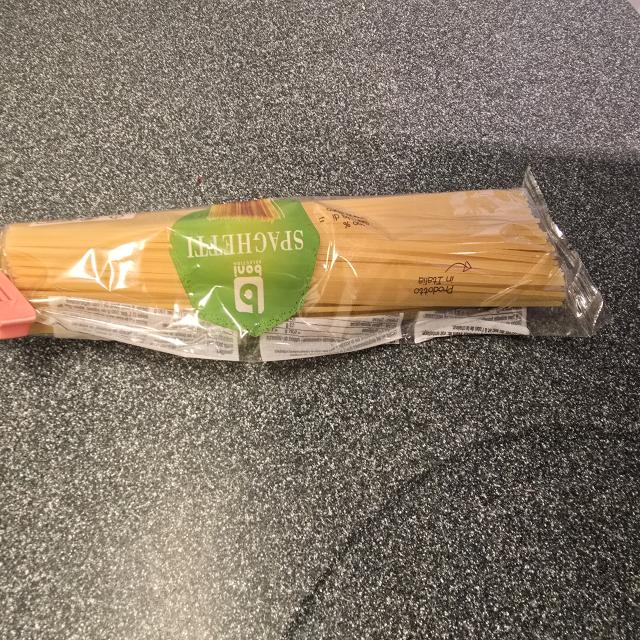Pasta: (0, 171, 607, 365)
